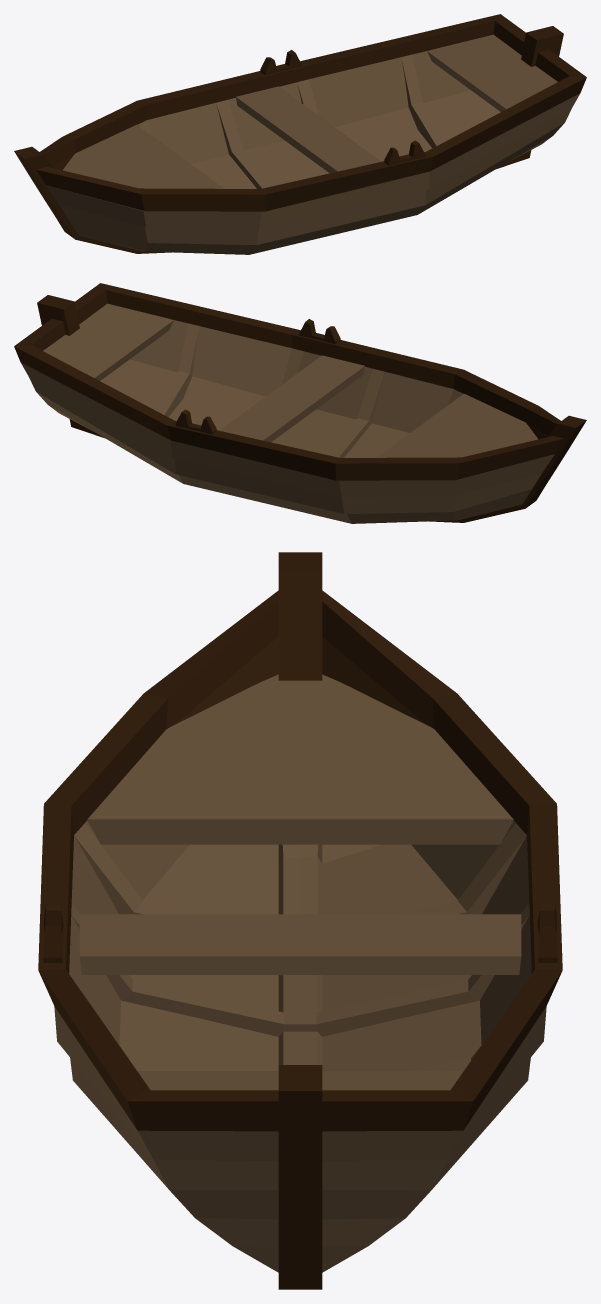
Rendered from boat.fbx.
The picture shows the model from 3 angles, top to bottom: view 1: azimuth 30°, elevation 25°; view 2: azimuth 150°, elevation 25°; view 3: azimuth 270°, elevation 25°; orthographic projection. The views are drawn at different scales.
Visible parts, largest first — view 1: boat_0; view 2: boat_0; view 3: boat_0.
Boxes of the visible parts, <box> form: boat_0: <box>14,14,586,254</box>; boat_0: <box>14,283,586,523</box>; boat_0: <box>38,552,562,1289</box>.
Bounding box in the file's own units: 1540 × 372 × 649.
